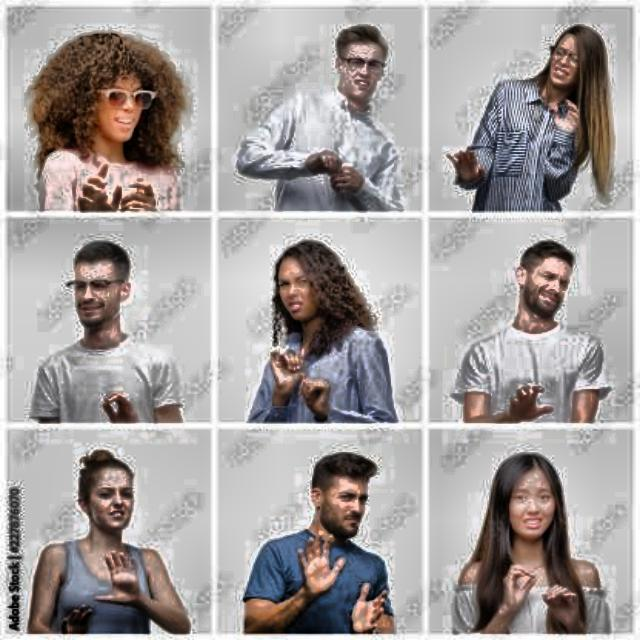disgust: (255, 229, 379, 344), (470, 439, 586, 548), (299, 440, 395, 541), (74, 439, 157, 548), (318, 19, 408, 117), (524, 19, 614, 117), (501, 241, 593, 328)
happy: (62, 46, 183, 164)
neutral: (64, 237, 144, 344)
